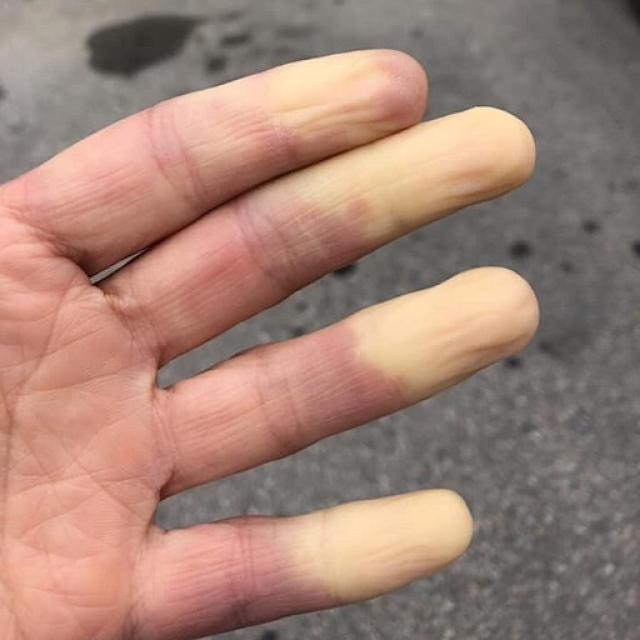raynauds: (201, 11, 547, 606)
